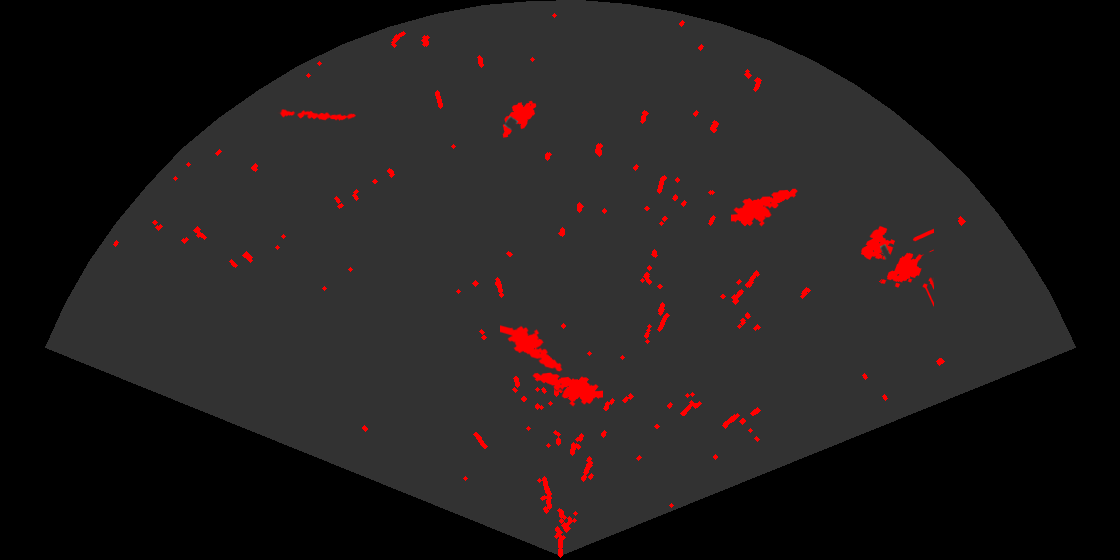AUV: (501, 99, 538, 139)
cage: (859, 224, 934, 308)
chain: (277, 108, 356, 122)
frogman: (500, 324, 564, 373), (731, 187, 799, 228), (531, 371, 603, 408)
